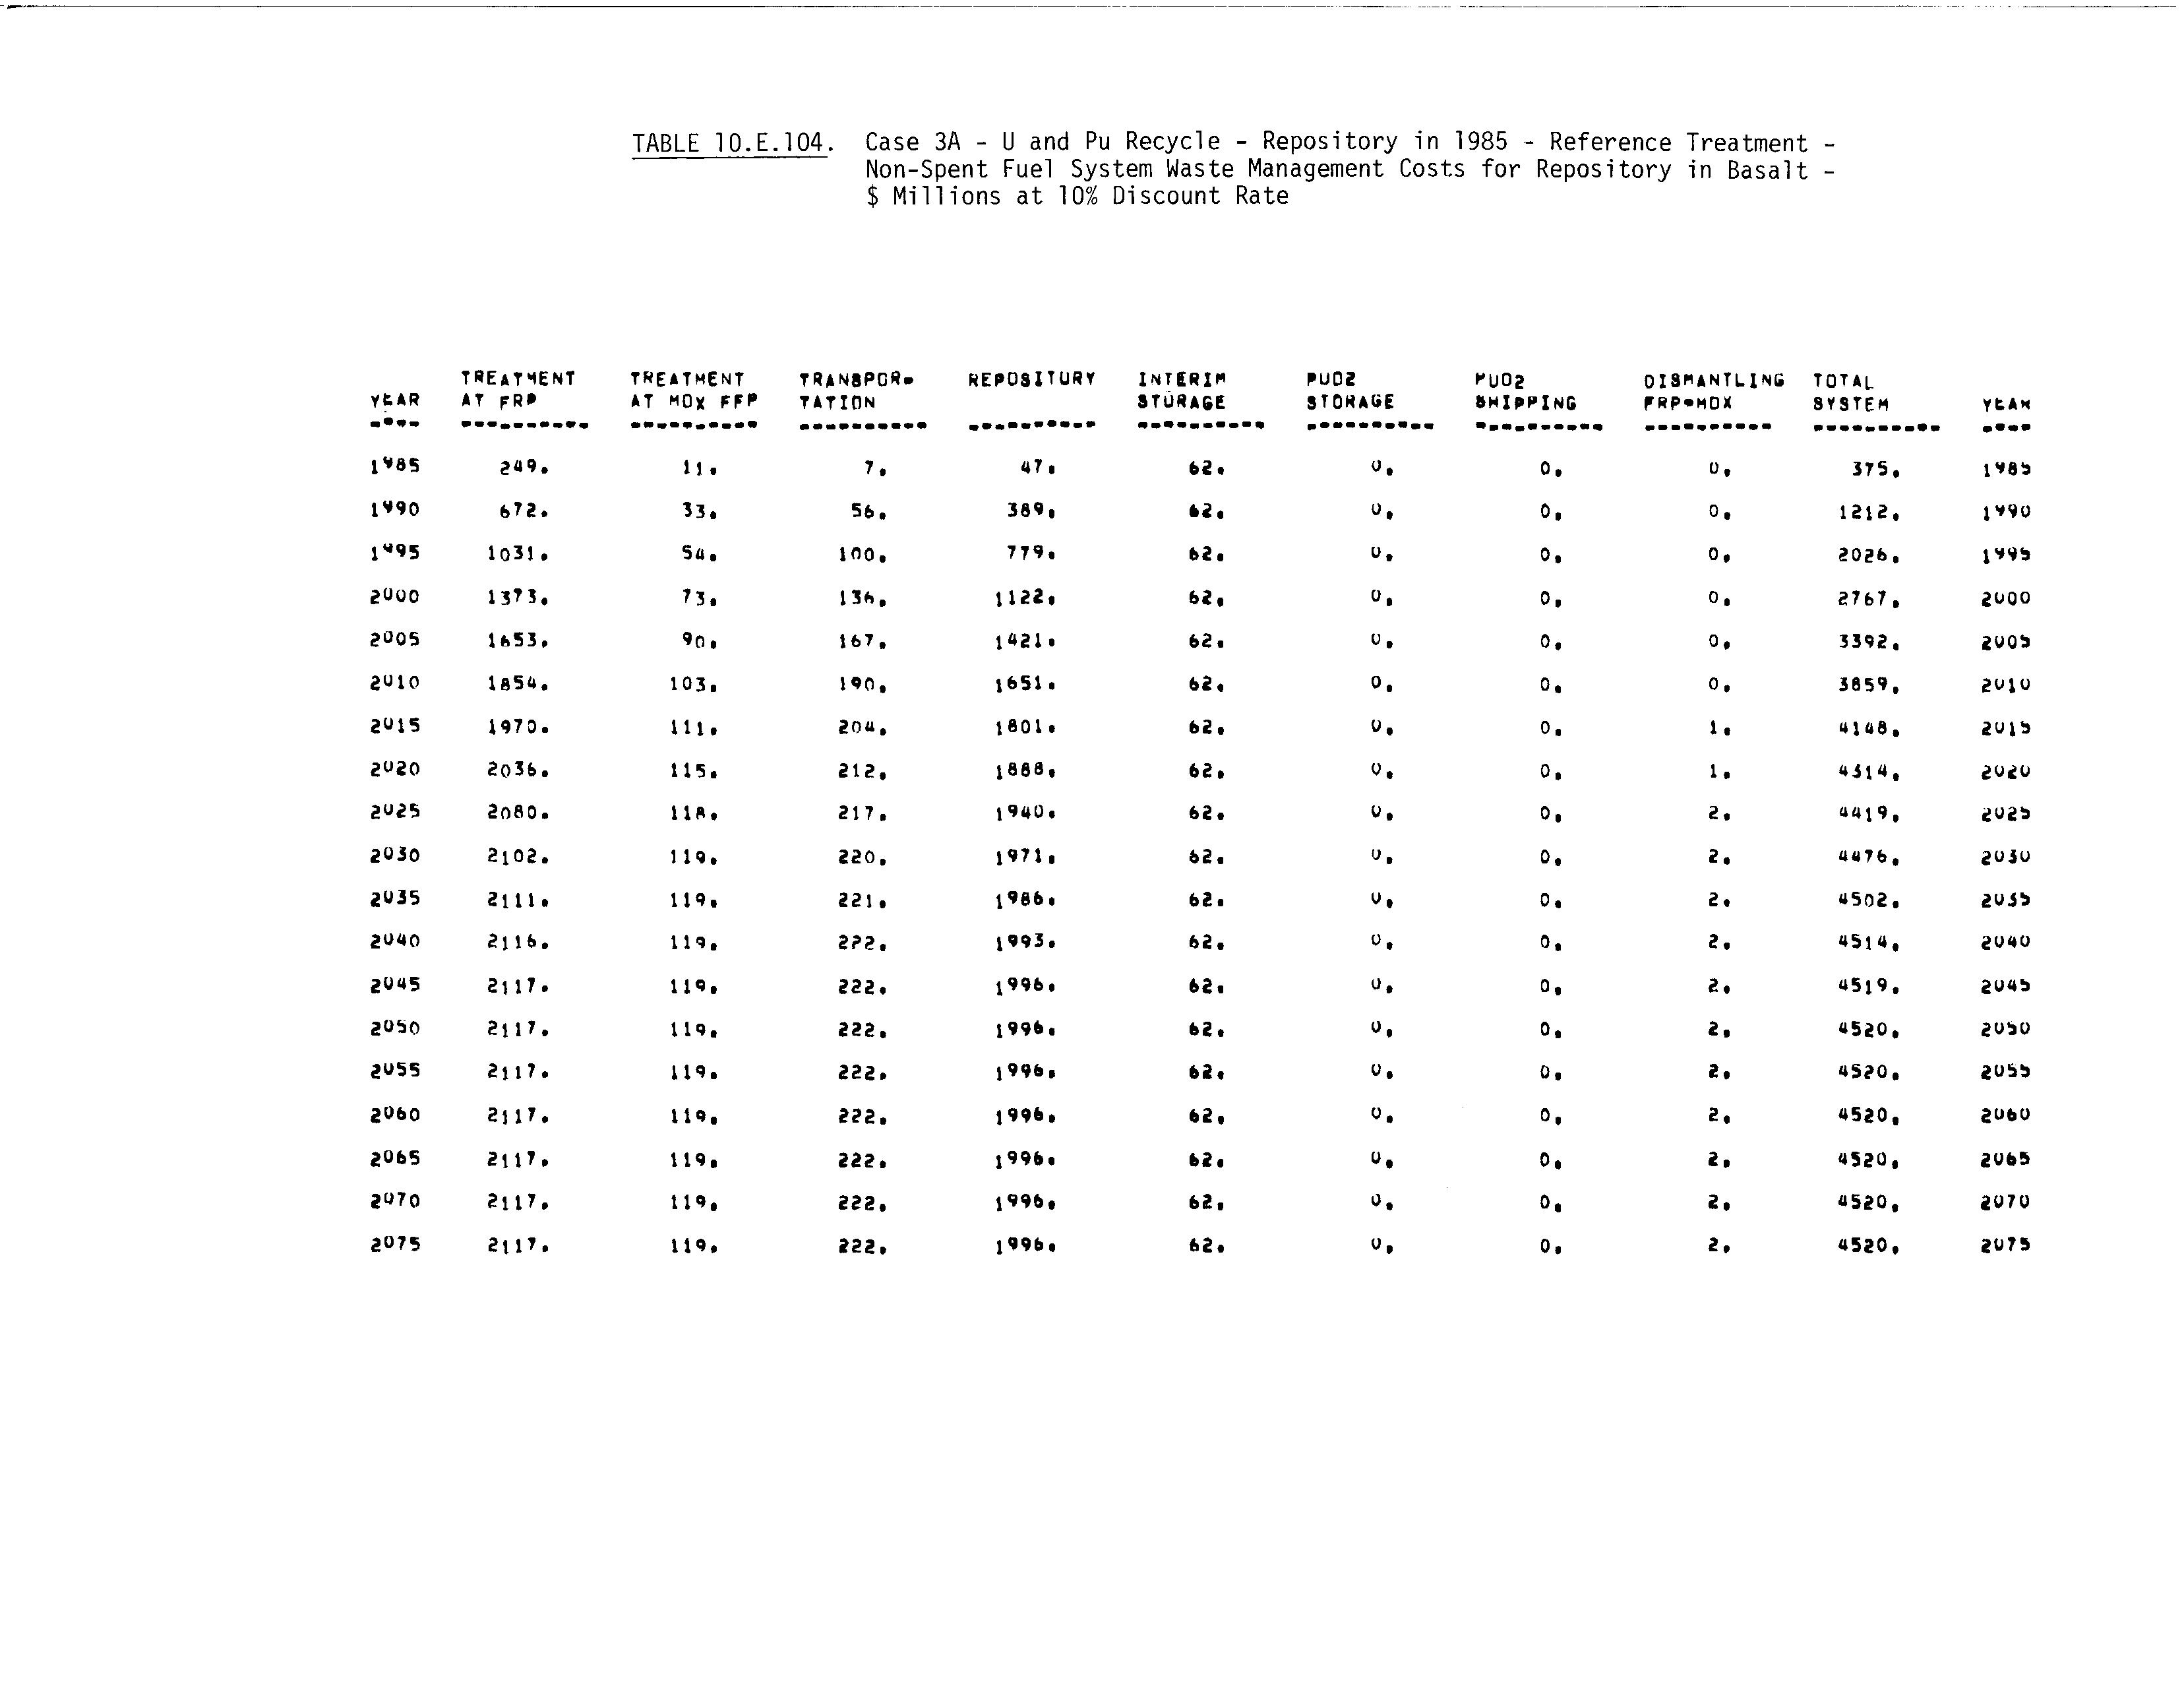borderless: (364, 117, 2052, 1260)
